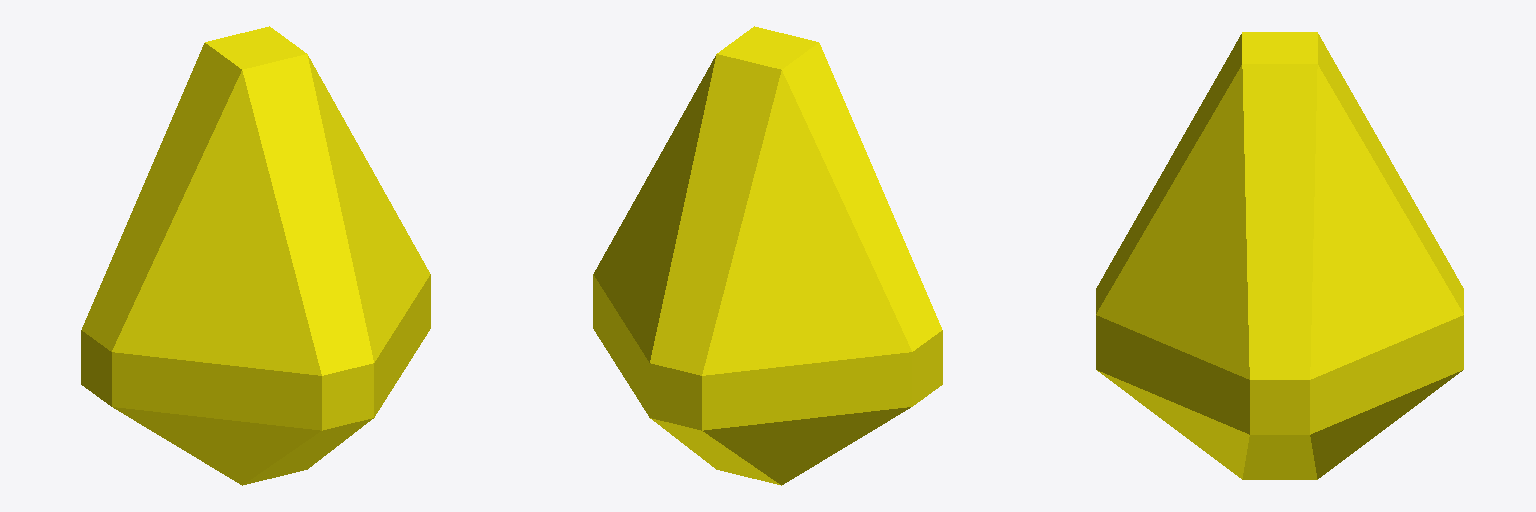
The picture shows the model from 3 angles: view 1: azimuth 30°, elevation 25°; view 2: azimuth 150°, elevation 25°; view 3: azimuth 270°, elevation 25°; orthographic projection.
Parts seen in each view (by area): view 1: Cube; view 2: Cube; view 3: Cube.
Boxes of the visible parts, <box> form: Cube: <box>81,26,430,485</box>; Cube: <box>593,26,942,485</box>; Cube: <box>1096,32,1463,479</box>.
Size of the model in its own units: 1.61 by 2 by 1.61.
Materials: 1 (1 with a texture image).